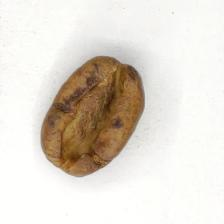NG: (57, 68, 122, 163)
